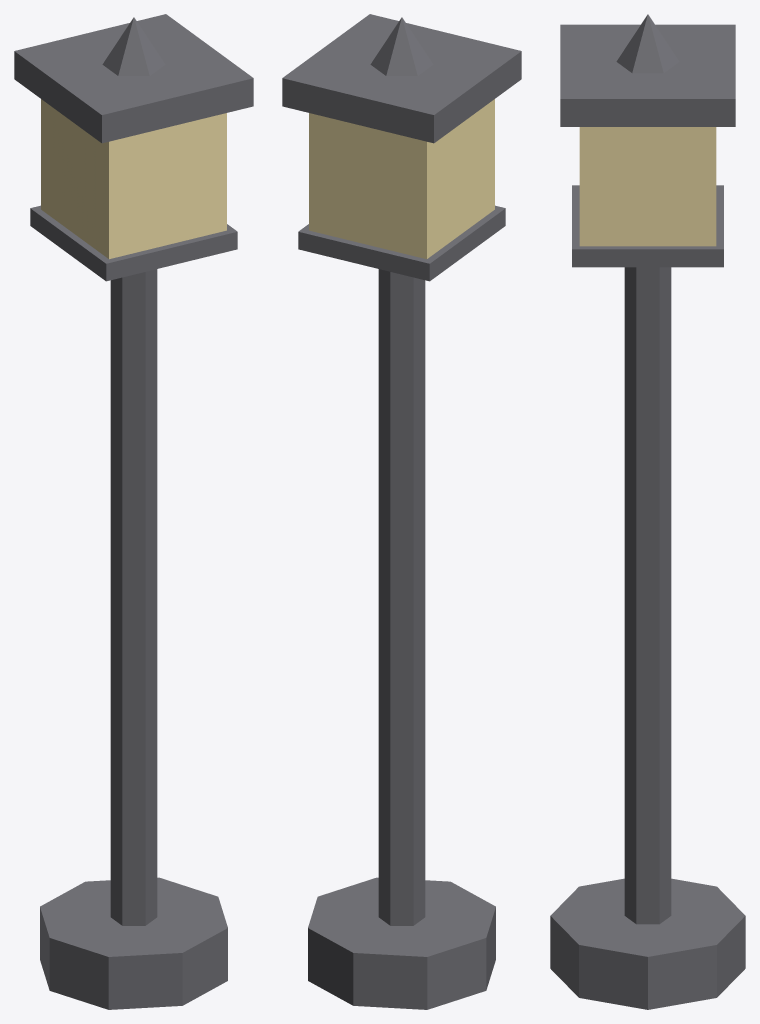
The model's file is lamp.glb.
3 renders of one model, left to right at view 1: azimuth 30°, elevation 25°; view 2: azimuth 150°, elevation 25°; view 3: azimuth 270°, elevation 25°, orthographic.
Parts seen in each view (by area): view 1: lamp; view 2: lamp; view 3: lamp.
Part boxes in pixels (left/top/right/bottom): lamp: left=14, top=14, right=253, bottom=1009; lamp: left=282, top=14, right=521, bottom=1009; lamp: left=550, top=14, right=745, bottom=1009.
Bounding box in the file's own units: 1 × 5.4 × 1.
